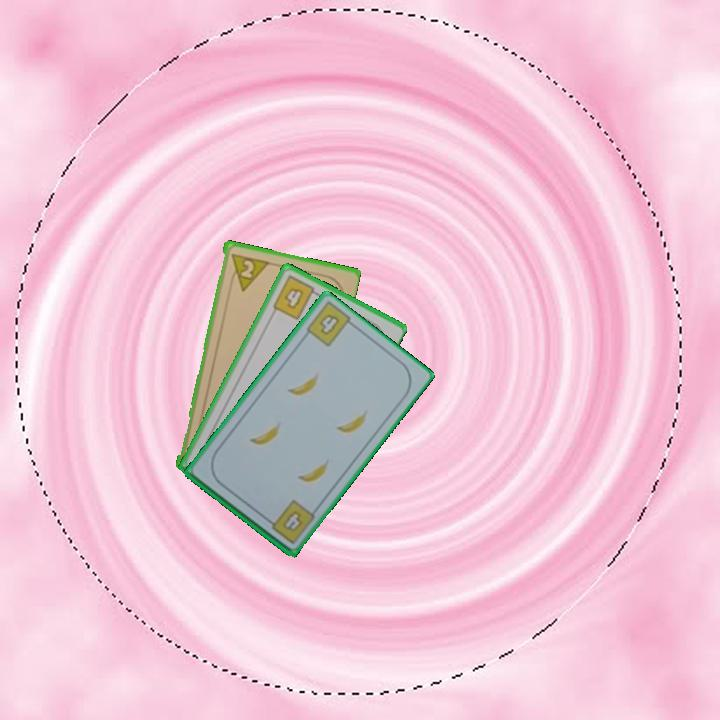2p: (227, 250, 270, 294)
4b: (262, 496, 318, 547), (269, 272, 322, 323), (316, 310, 342, 338)
